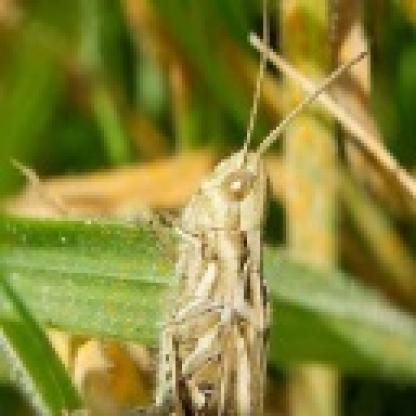grasshopper: (146, 10, 289, 416)
